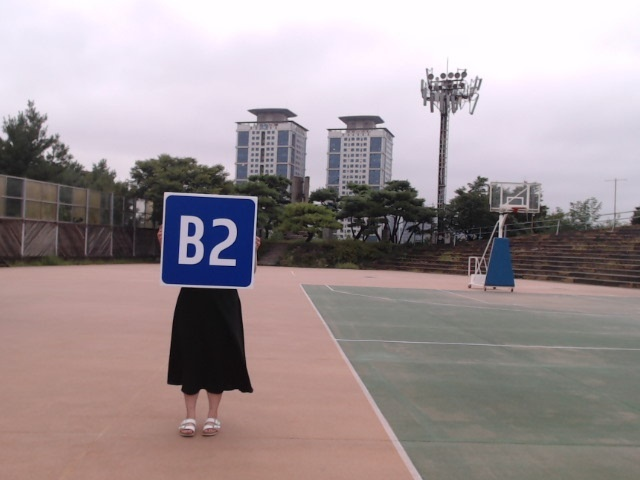delivery_b2: (159, 195, 257, 288)
